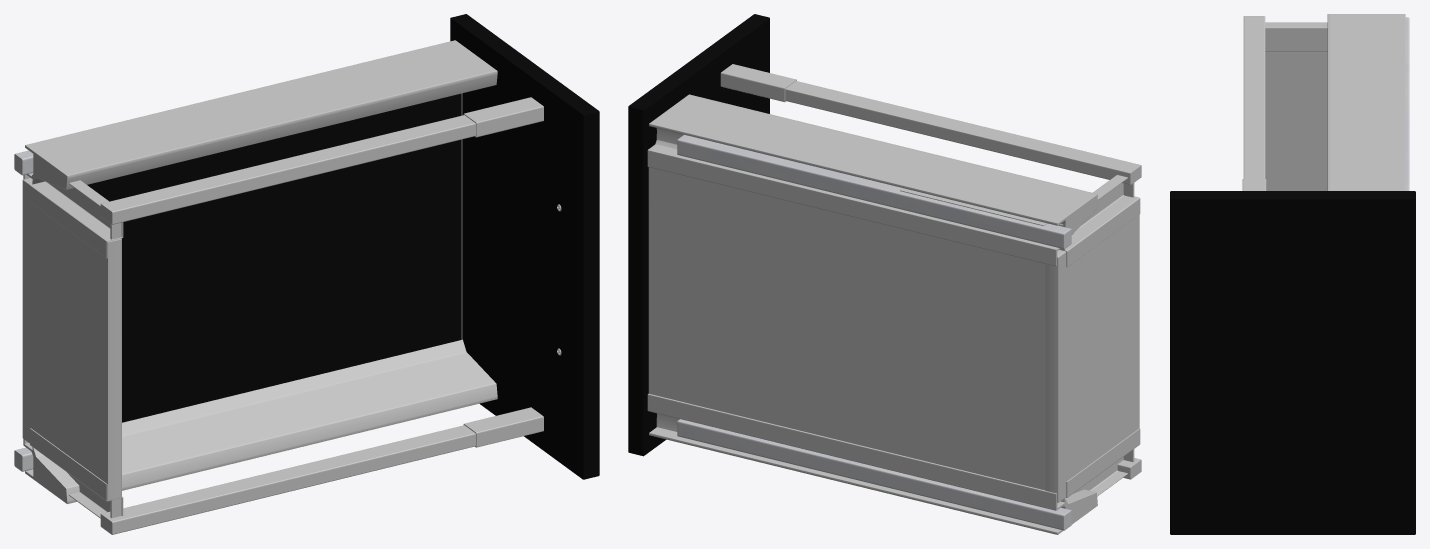
Rendered from Kitchen06Drawer02.obj.
3 renders of one model, left to right at view 1: azimuth 30°, elevation 25°; view 2: azimuth 150°, elevation 25°; view 3: azimuth 270°, elevation 25°, orthographic. The views are drawn at different scales.
Parts seen in each view (by area): view 1: Kitchen06Drawer02; view 2: Kitchen06Drawer02; view 3: Kitchen06Drawer02.
Part boxes in pixels (x1,y1,x2,y2): Kitchen06Drawer02: (14, 14, 599, 534); Kitchen06Drawer02: (628, 14, 1141, 534); Kitchen06Drawer02: (1170, 14, 1415, 534).
Size of the model in its own units: 0.5199 by 0.398 by 0.263.
Materials: 4 (1 with a texture image).
